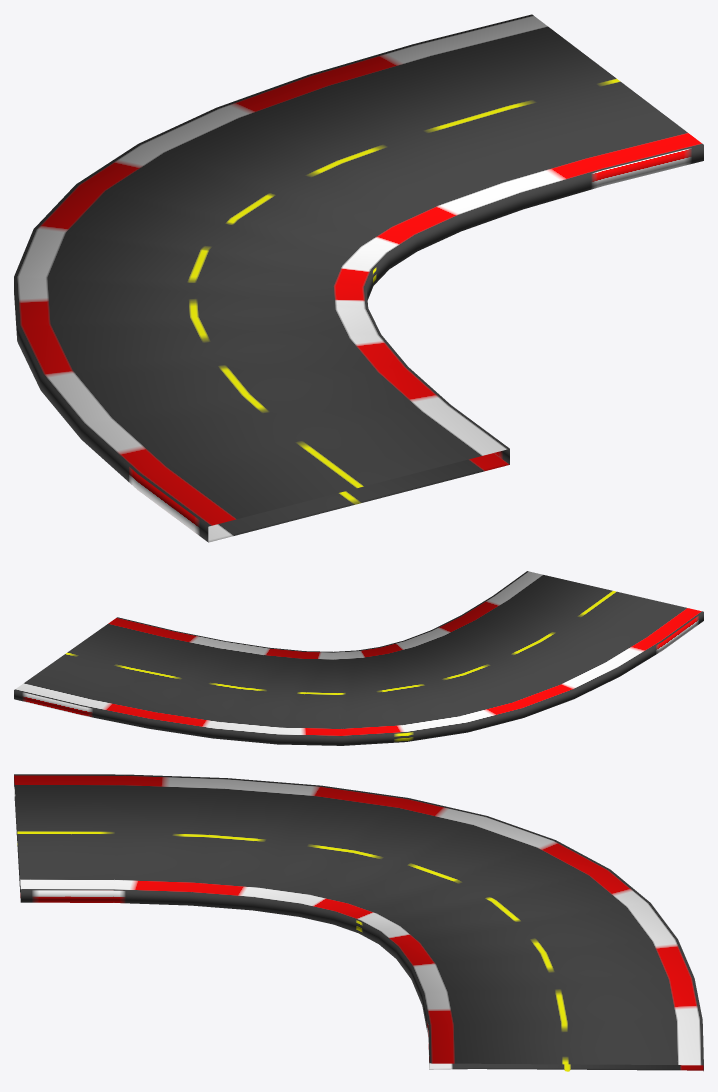
3 views of the same model, one above another, from view 1: azimuth 30°, elevation 25°; view 2: azimuth 150°, elevation 25°; view 3: azimuth 270°, elevation 25° (orthographic). The views are drawn at different scales.
Parts seen in each view (by area): view 1: BezierCurve; view 2: BezierCurve; view 3: BezierCurve.
Boxes of the visible parts, x1,y1,x2,y2 form: BezierCurve: (14,14,703,542); BezierCurve: (14,571,703,745); BezierCurve: (14,774,703,1071).
Size of the model in its own units: 502 by 10 by 502.
Materials: 1 (1 with a texture image).
